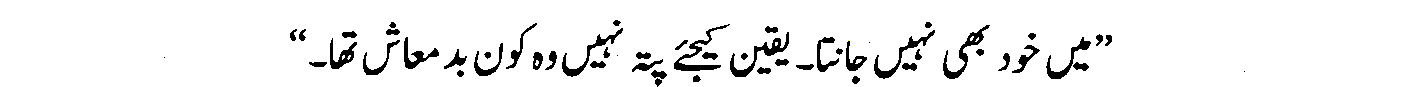bay_shosha: (455, 47, 467, 78)
